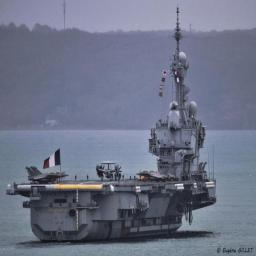Portanaves: (7, 6, 218, 247)
